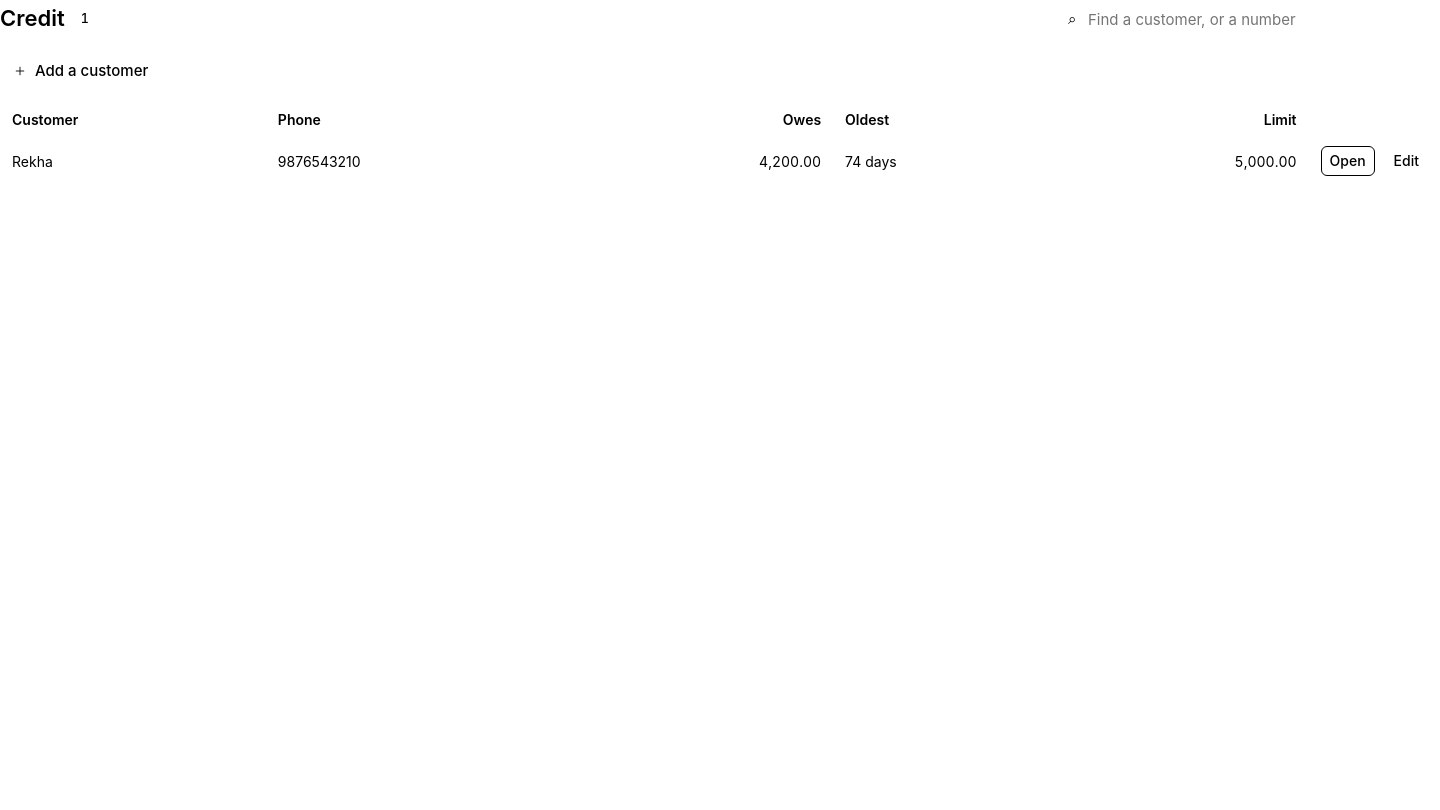
Test case: the account (scope 5.3) › prints the running balance Rust computed, and ends at the balance
Click the button "Open".
click(1348, 161)  # box [1321,146,1375,176]
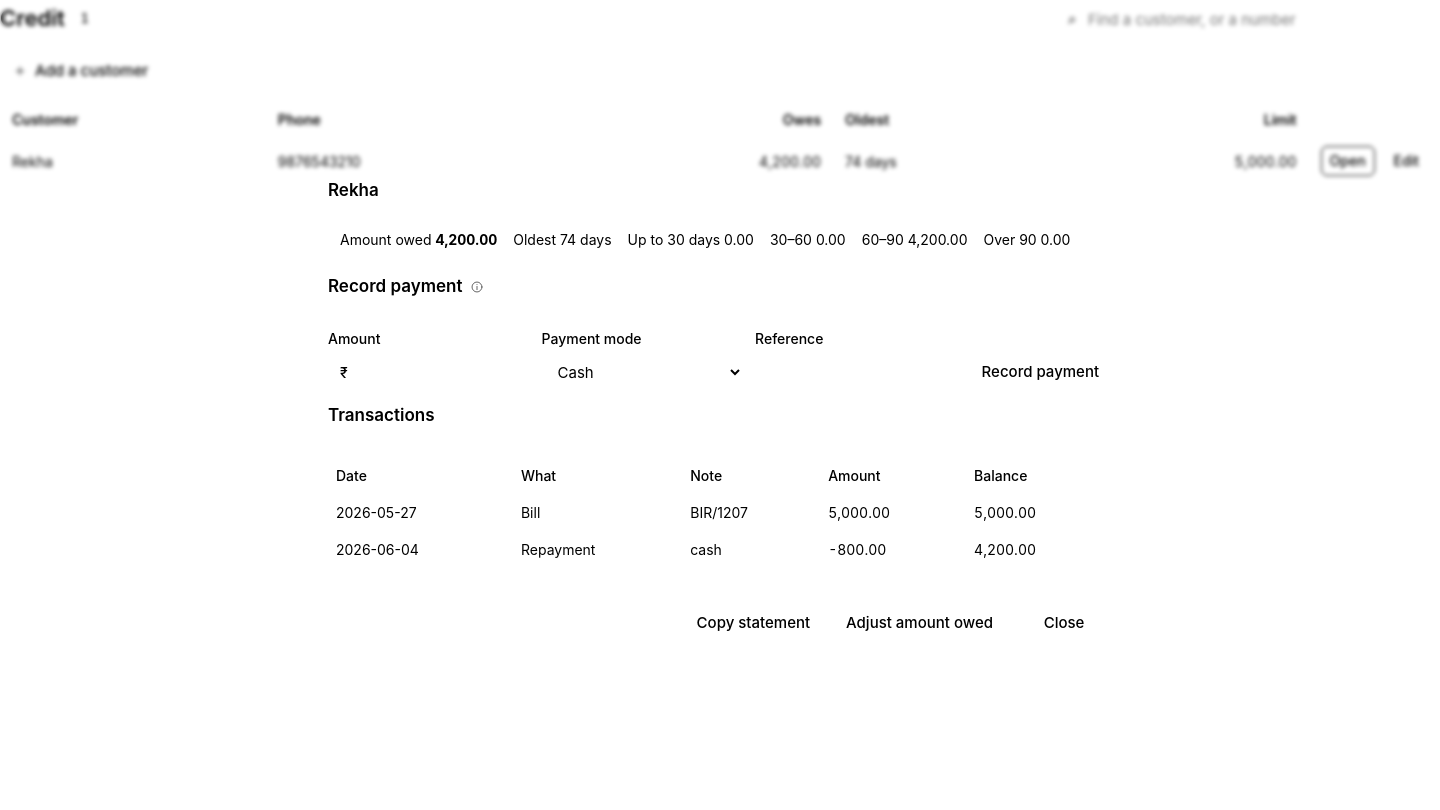
Now the text "BIR/1207" is shown, box [682,494,820,531]
Now the text "-800.00" is shown, box [820,531,966,568]
Now the row "2026-06-04 Repayment cash -800.00 4,200.00" is shown, box [328,531,1112,568]
